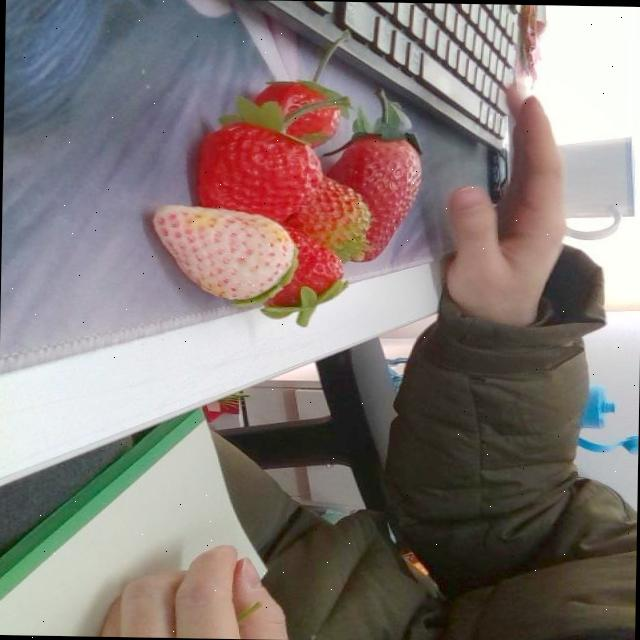strawberry: (150, 205, 288, 299), (334, 124, 426, 262), (193, 124, 320, 218), (250, 75, 348, 152), (290, 174, 372, 264), (283, 228, 351, 314)
